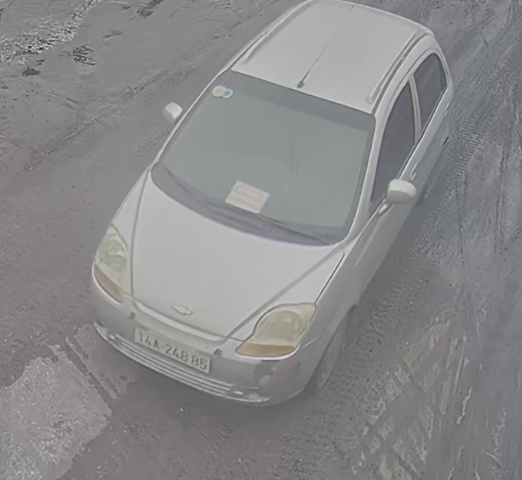vehicle plate: (128, 321, 224, 381)
